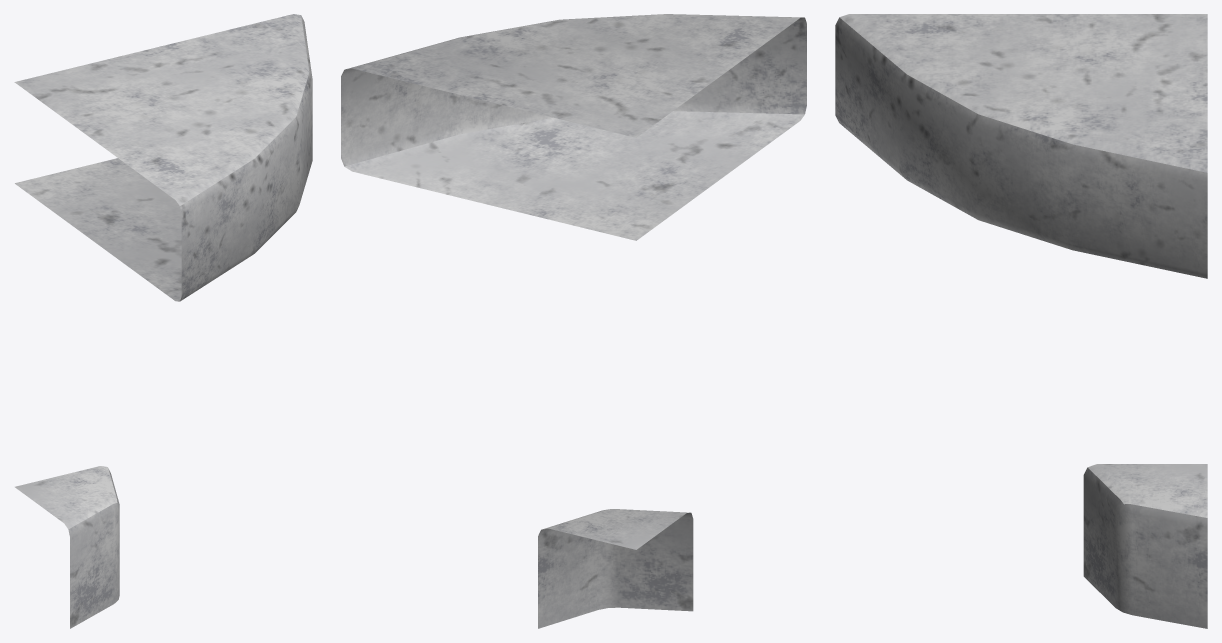
The model's file is FloorSeparationAngle.fbx.
3 renders of one model, left to right at view 1: azimuth 30°, elevation 25°; view 2: azimuth 150°, elevation 25°; view 3: azimuth 270°, elevation 25°, orthographic. The views are drawn at different scales.
Visible parts, largest first — view 1: FloorSeparationAngle; view 2: FloorSeparationAngle; view 3: FloorSeparationAngle.
Boxes of the visible parts, x1,y1,x2,y2 form: FloorSeparationAngle: (14, 14, 312, 628); FloorSeparationAngle: (341, 14, 806, 628); FloorSeparationAngle: (835, 14, 1207, 628).
Bounding box in the file's own units: 30 × 50 × 30.
Materials: 1 (1 with a texture image).
